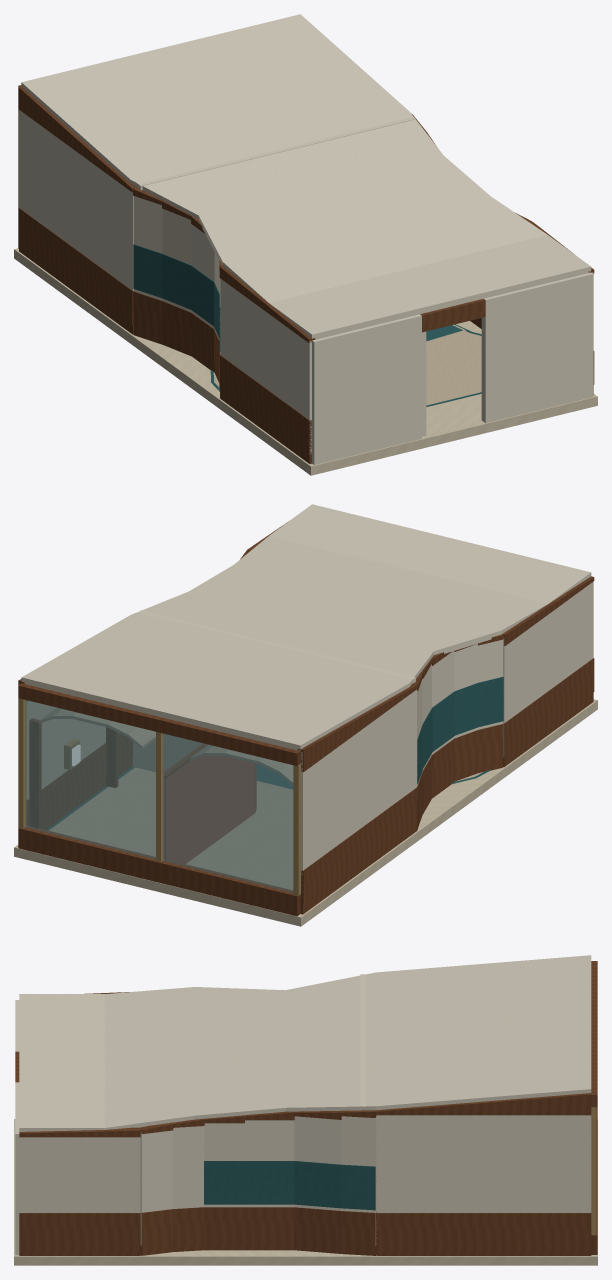
File: shell.glb
3 views of the same model, one above another, from view 1: azimuth 30°, elevation 25°; view 2: azimuth 150°, elevation 25°; view 3: azimuth 270°, elevation 25° (orthographic).
Parts seen in each view (by area): view 1: SUI_Runtime_ivory_enamel, SUI_Runtime_warm_walnut, SUI_Runtime_warm_stone, SUI_Runtime_teal_weave, SUI_Runtime_oatmeal_weave; view 2: SUI_Runtime_ivory_enamel, SUI_Runtime_warm_walnut, SUI_Runtime_SuiteHospitalityGlass, SUI_Runtime_oatmeal_weave, SUI_Runtime_clay_weave, SUI_Runtime_warm_stone, SUI_Runtime_teal_weave, SUI_Runtime_champagne_metal; view 3: SUI_Runtime_ivory_enamel, SUI_Runtime_warm_walnut, SUI_Runtime_teal_weave, SUI_Runtime_warm_stone, SUI_Runtime_champagne_metal.
Boxes of the visible parts, x1,y1,x2,y2 form: SUI_Runtime_ivory_enamel: (19,14,593,464); SUI_Runtime_warm_walnut: (18,85,594,463); SUI_Runtime_warm_stone: (14,248,597,475); SUI_Runtime_teal_weave: (133,244,481,406); SUI_Runtime_oatmeal_weave: (213,324,481,405); SUI_Runtime_ivory_enamel: (19,504,593,885); SUI_Runtime_warm_walnut: (18,522,594,916); SUI_Runtime_SuiteHospitalityGlass: (25,700,293,892); SUI_Runtime_oatmeal_weave: (39,708,482,889); SUI_Runtime_clay_weave: (164,756,256,863); SUI_Runtime_warm_stone: (14,699,597,926); SUI_Runtime_teal_weave: (46,677,503,830); SUI_Runtime_champagne_metal: (18,698,300,895); SUI_Runtime_ivory_enamel: (15,955,591,1254); SUI_Runtime_warm_walnut: (15,961,597,1255); SUI_Runtime_teal_weave: (204,1161,375,1210); SUI_Runtime_warm_stone: (14,1119,597,1265); SUI_Runtime_champagne_metal: (591,1107,596,1235).
Bounding box in the file's own units: 7.2 × 4.26 × 12.9.
9 materials, 7 textured.
